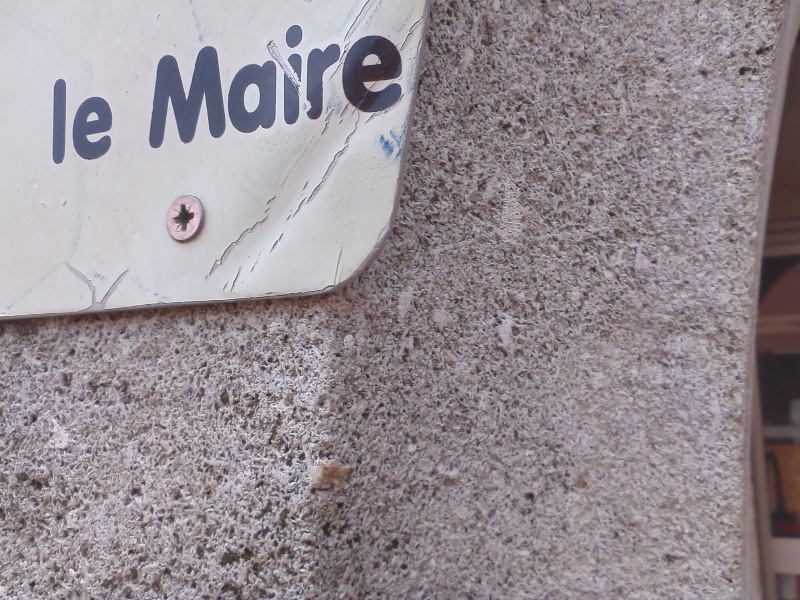text: (161, 4, 176, 150), (177, 4, 192, 150), (193, 4, 208, 150), (209, 4, 224, 150), (225, 4, 240, 150), (241, 4, 256, 150), (257, 4, 272, 150), (273, 4, 288, 150), (289, 4, 304, 150), (305, 4, 320, 150), (321, 4, 336, 150), (337, 4, 352, 150), (353, 4, 368, 150), (369, 4, 384, 150), (385, 4, 400, 150), (65, 76, 80, 168), (81, 76, 96, 168), (97, 76, 112, 168), (53, 76, 64, 168), (113, 76, 118, 168), (158, 4, 160, 150), (401, 4, 403, 150)
